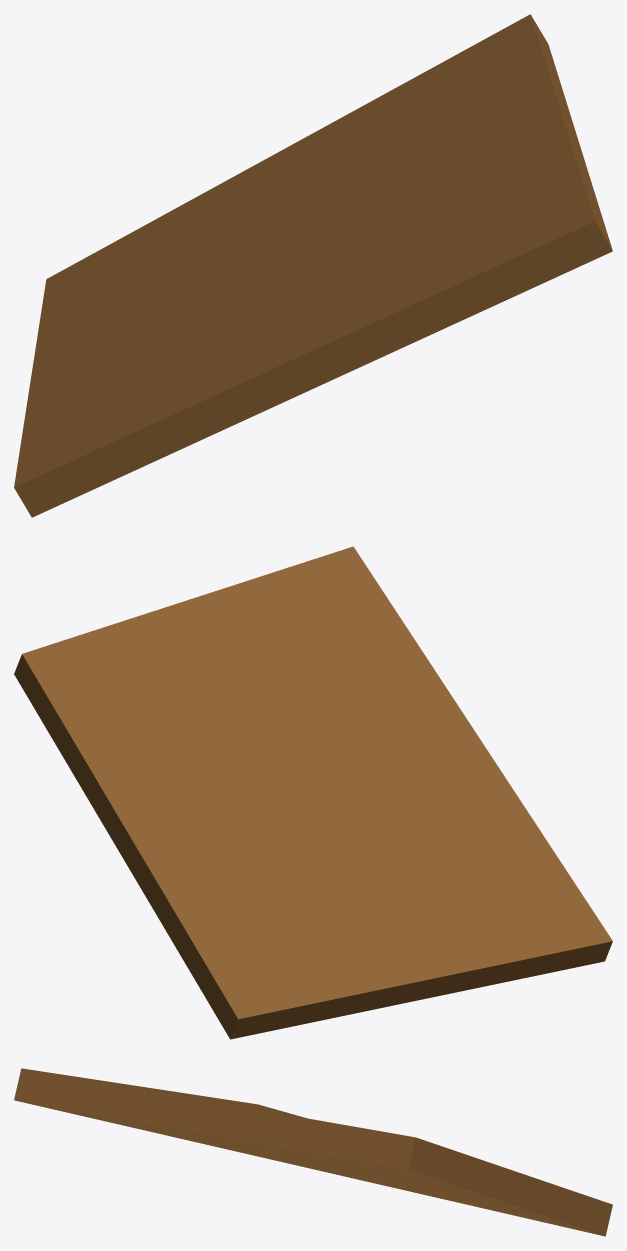
File: MPlatform5.fbx
The picture shows the model from 3 angles, top to bottom: view 1: azimuth 30°, elevation 25°; view 2: azimuth 150°, elevation 25°; view 3: azimuth 270°, elevation 25°; orthographic projection. The views are drawn at different scales.
Parts seen in each view (by area): view 1: Cylinder.039; view 2: Cylinder.039; view 3: Cylinder.039.
Boxes of the visible parts, x1,y1,x2,y2 form: Cylinder.039: (14, 14, 612, 517); Cylinder.039: (14, 546, 612, 1039); Cylinder.039: (14, 1068, 612, 1236).
Size of the model in its own units: 3775 by 1676 by 3648.
